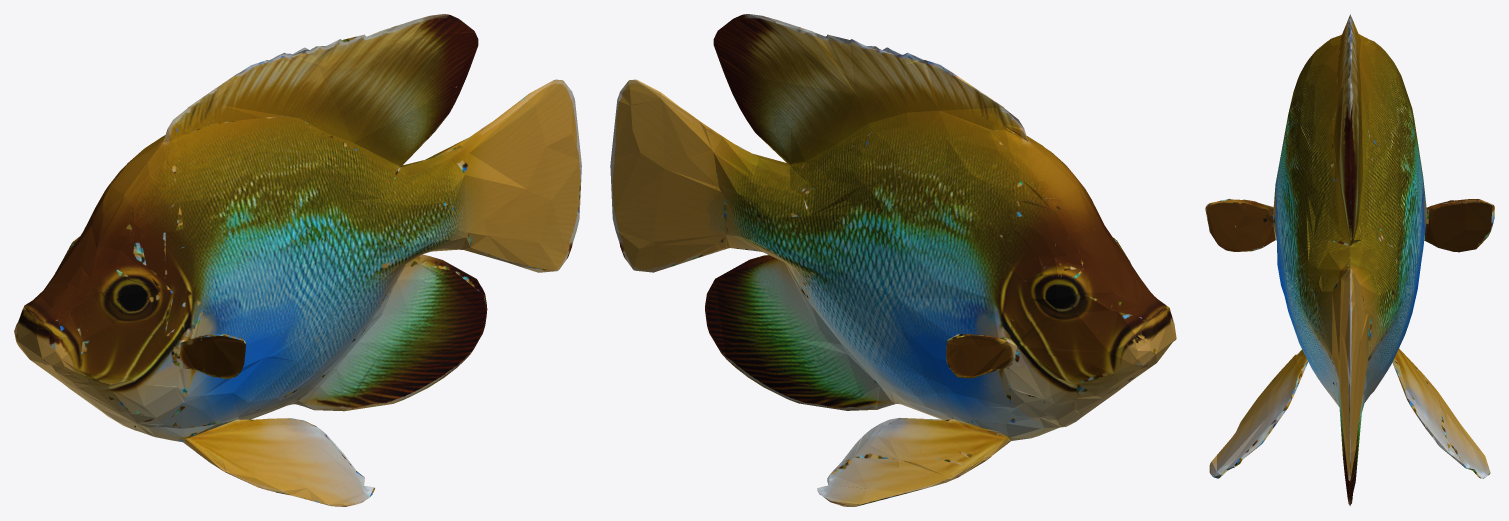
Rendered from fish_0087_smpl23_resized.glb.
3 renders of one model, left to right at view 1: azimuth 30°, elevation 25°; view 2: azimuth 150°, elevation 25°; view 3: azimuth 270°, elevation 25°, orthographic. The views are drawn at different scales.
Parts seen in each view (by area): view 1: world; view 2: world; view 3: world.
Part boxes in pixels (x1,y1,x2,y2): world: (14,14,581,506); world: (610,14,1176,506); world: (1205,14,1494,506).
Size of the model in its own units: 1.99 by 1.39 by 0.832.
Materials: 1 (1 with a texture image).
